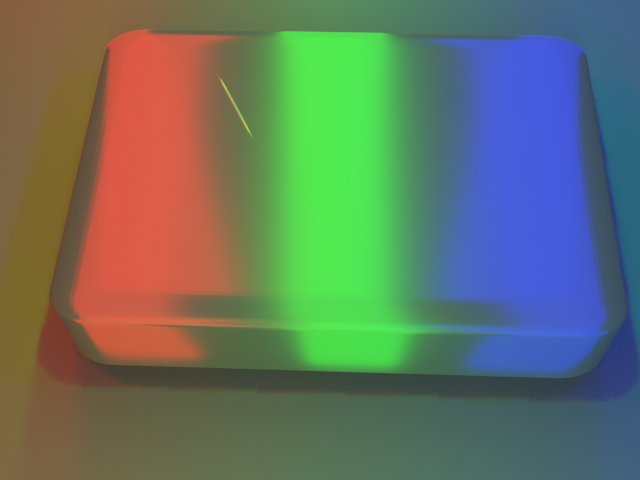scratch: (82, 4, 401, 190)
